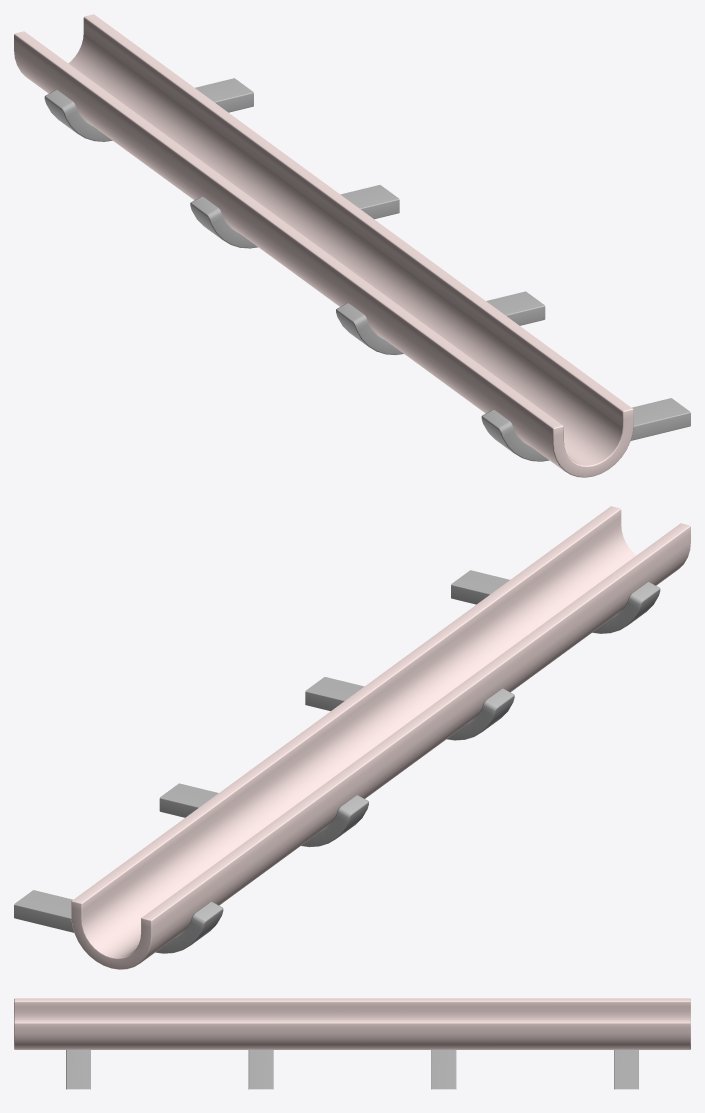
The model's file is City_20_Gutter_1.glb.
3 renders of one model, top to bottom at view 1: azimuth 30°, elevation 25°; view 2: azimuth 150°, elevation 25°; view 3: azimuth 270°, elevation 25°, orthographic. The views are drawn at different scales.
Visible parts, largest first — view 1: City_20_Gutter_1; view 2: City_20_Gutter_1; view 3: City_20_Gutter_1.
Part boxes in pixels (left/top/right/bottom): City_20_Gutter_1: left=14, top=14, right=690, bottom=477; City_20_Gutter_1: left=14, top=506, right=690, bottom=969; City_20_Gutter_1: left=14, top=998, right=690, bottom=1089.
Bounding box in the file's own units: 0.9076 × 0.33 × 4.45.
Materials: 1 (1 with a texture image).
